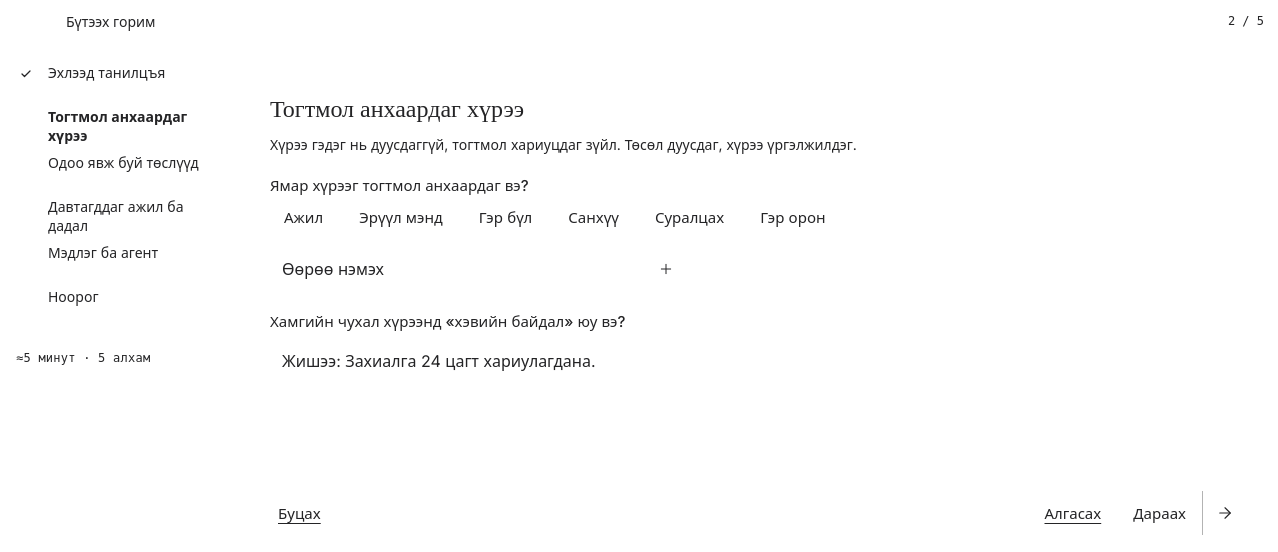
Scenario: BuildWizard (recipe v05, adaptive) › adds an area of one's own (allow_custom)
Type "Уран зураг" into the field with placeholder "Өөрөө нэмэх".
click(452, 269); type("Уран зураг")  # box [270,247,634,291]
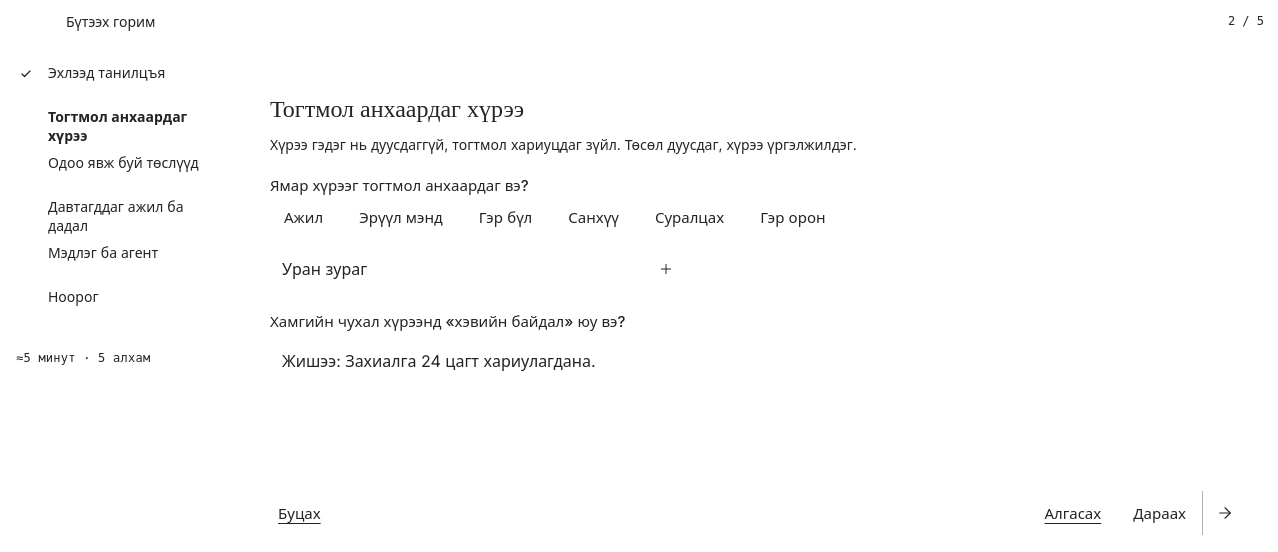
Click the button named "Өөрөө нэмэх".
click(666, 269)  # box [642,247,690,291]
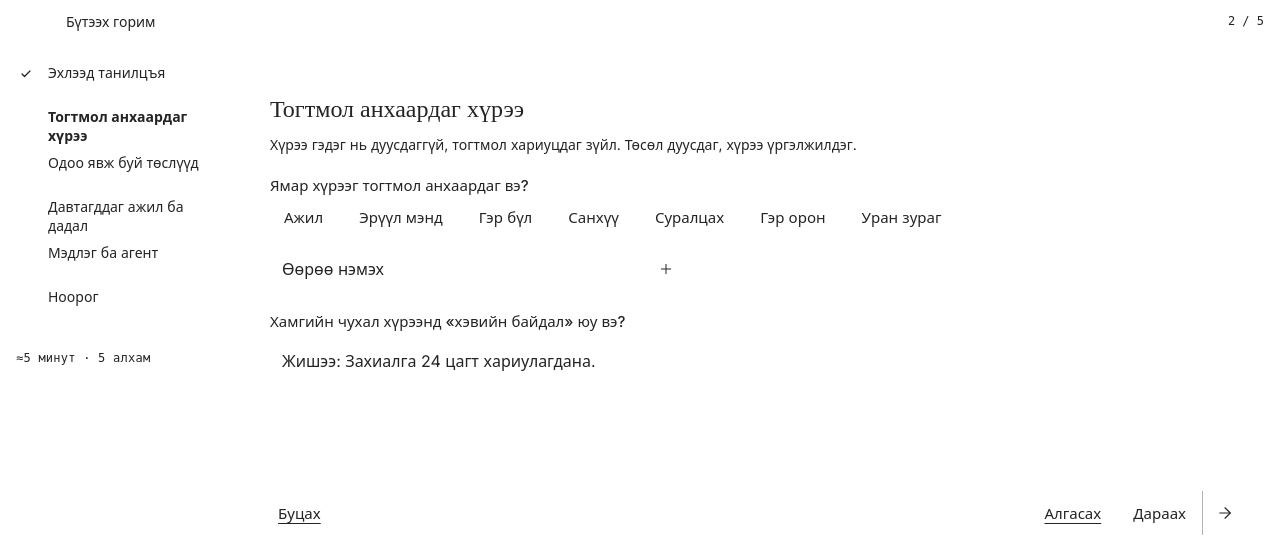
Result: the checkbox labelled "Уран зураг" is checked at [862,208,942,227]
